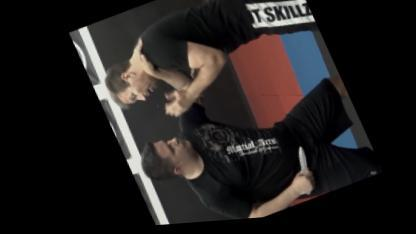knife: (279, 146, 317, 201)
